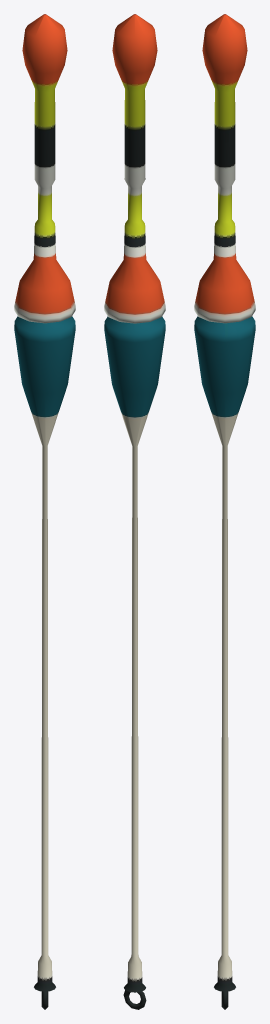
3 views of the same model, side by side, from view 1: azimuth 90°, elevation 25°; view 2: azimuth 150°, elevation 25°; view 3: azimuth 270°, elevation 25° (orthographic).
Parts seen in each view (by area): view 1: F35_Float; view 2: F35_Float; view 3: F35_Float.
Boxes of the visible parts, x1,y1,x2,y2 form: F35_Float: (14,14,75,1009); F35_Float: (104,14,165,1009); F35_Float: (194,14,255,1009).
Size of the model in its own units: 0.0129 by 0.23 by 0.0129.
Materials: 1 (1 with a texture image).
